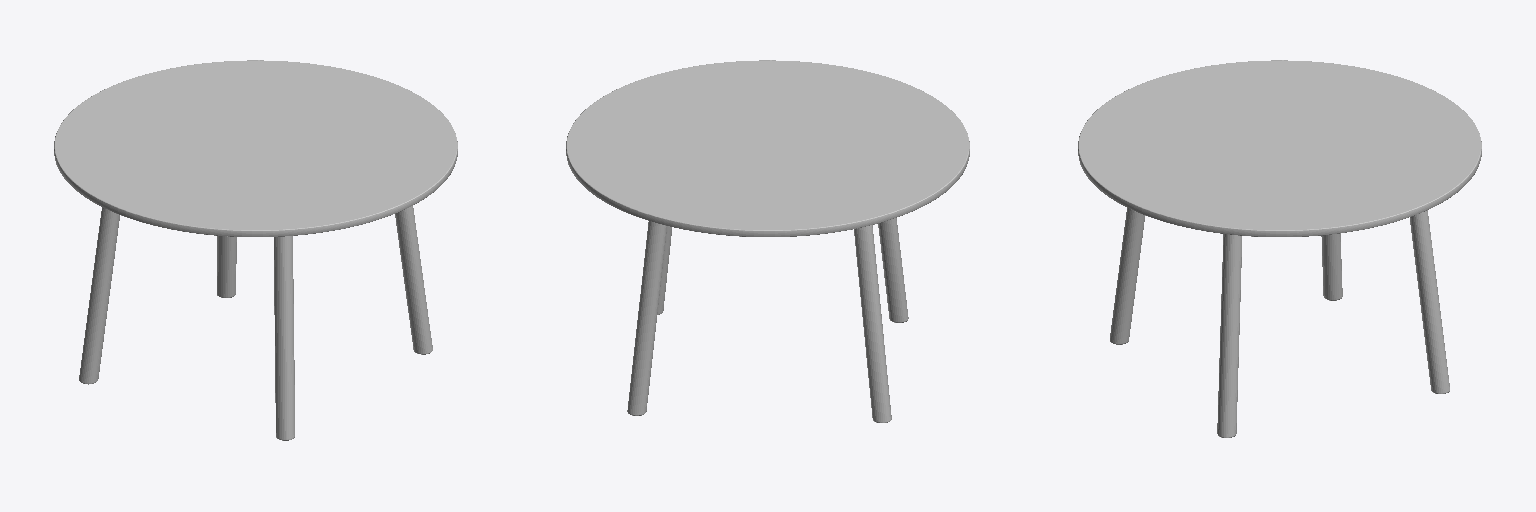
The model's file is tableobj.obj.
3 renders of one model, left to right at view 1: azimuth 30°, elevation 25°; view 2: azimuth 150°, elevation 25°; view 3: azimuth 270°, elevation 25°, orthographic.
Visible parts, largest first — view 1: Cylinder, Cube; view 2: Cylinder, Cube; view 3: Cylinder, Cube.
Part boxes in pixels (x1,y1,x2,y2): Cylinder: (54,60,457,236); Cube: (79,206,432,440); Cylinder: (566,60,969,236); Cube: (627,218,908,422); Cylinder: (1078,60,1481,236); Cube: (1110,208,1449,437).
Size of the model in its own units: 1.4 by 0.8429 by 1.4.